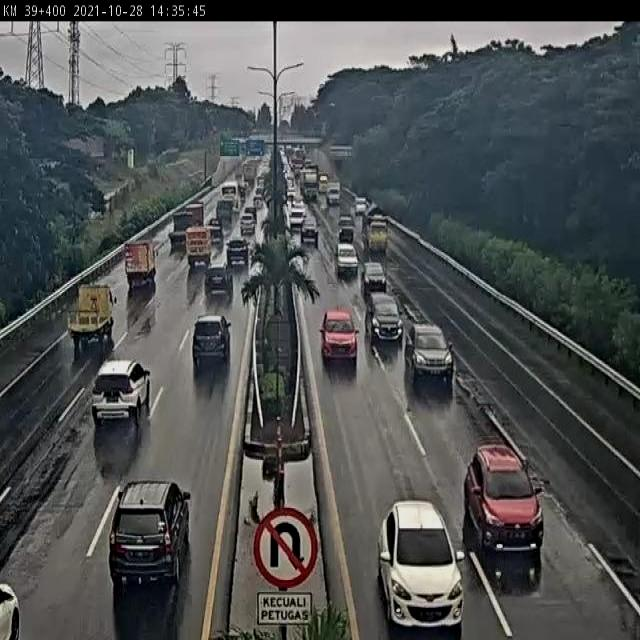Bus: (220, 180, 240, 212)
Car: (377, 497, 464, 640), (459, 444, 549, 577), (108, 478, 191, 592), (91, 361, 153, 426), (407, 325, 456, 392), (318, 308, 358, 367), (364, 292, 404, 348), (190, 315, 232, 366), (362, 261, 391, 297), (205, 263, 232, 298), (225, 238, 253, 268), (336, 246, 359, 276), (301, 219, 321, 248), (338, 216, 357, 244), (240, 213, 256, 234)
Truck: (69, 280, 117, 346), (169, 199, 205, 247), (124, 237, 156, 288), (362, 202, 392, 256), (186, 225, 212, 267), (327, 182, 342, 208)
